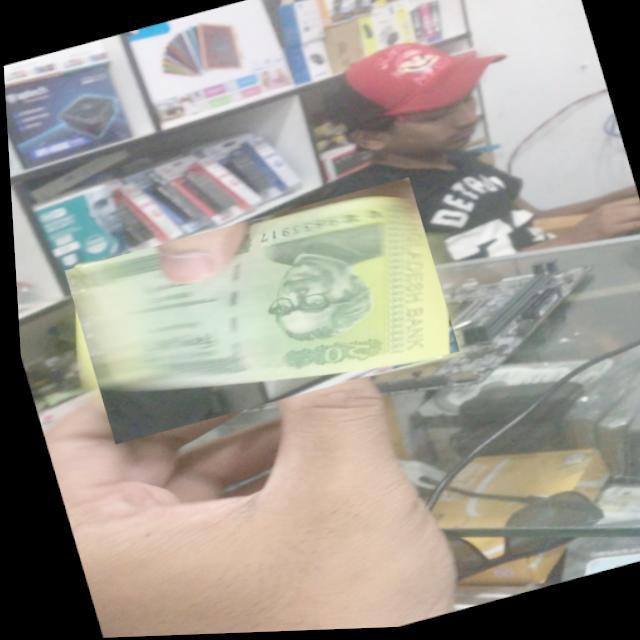Taka: (57, 179, 458, 446)
